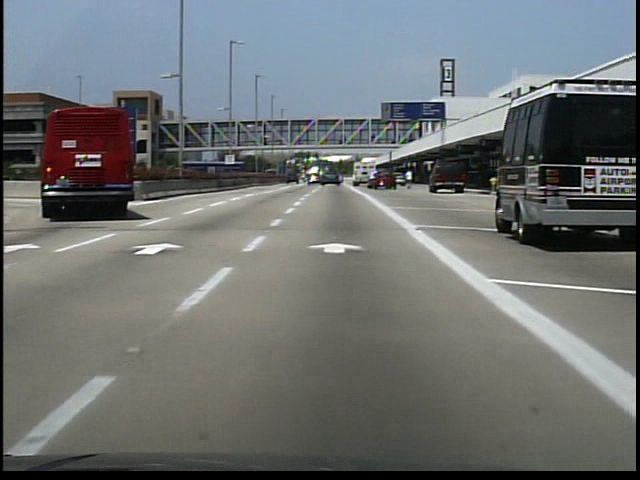person: (403, 169, 416, 191)
